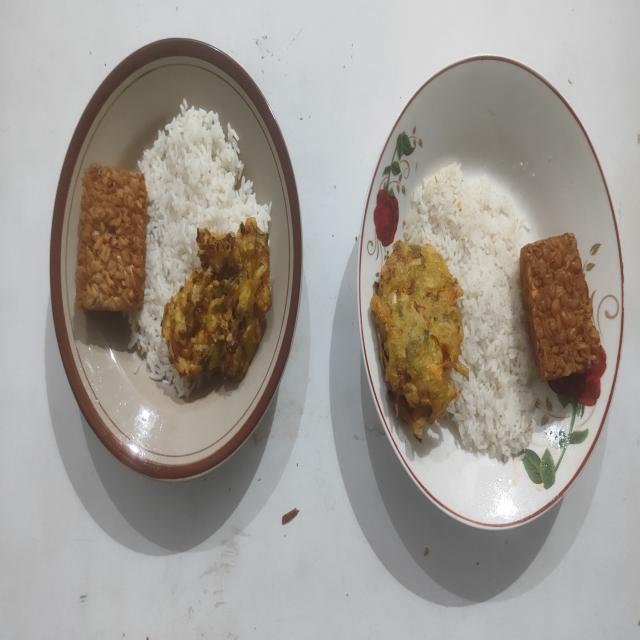nasi_putih: (130, 100, 272, 396), (404, 162, 534, 460)
tempe_goreng: (520, 233, 601, 381), (76, 164, 148, 310)
